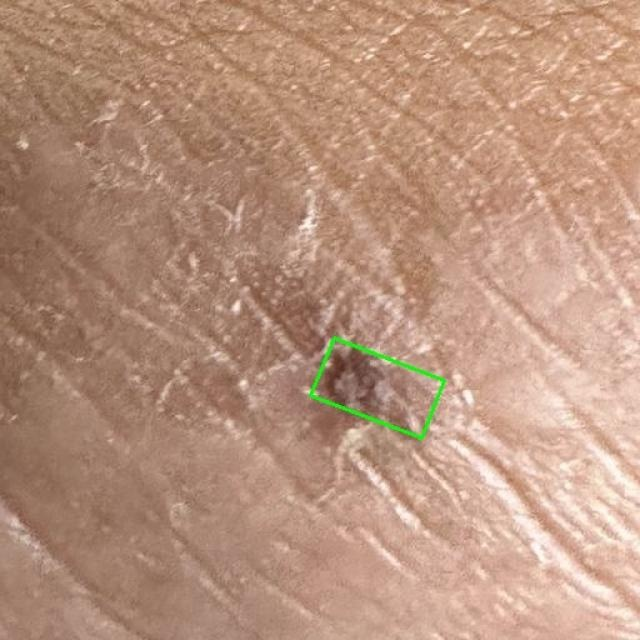Scabies: (311, 338, 444, 438)
